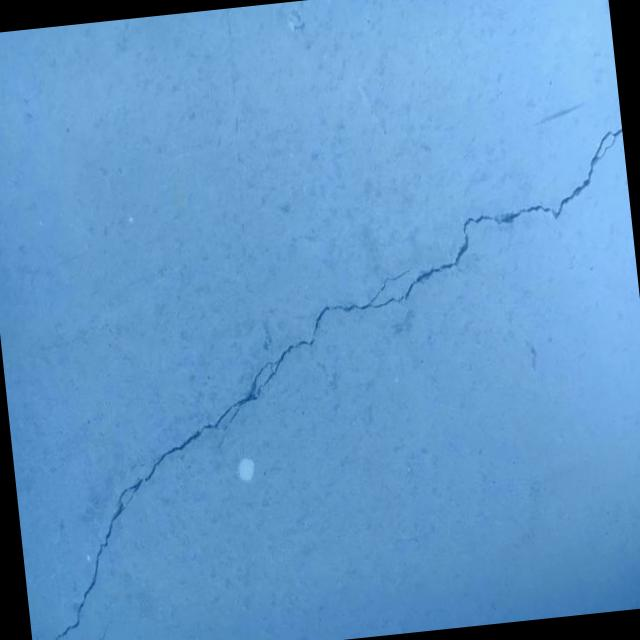crack: (4, 127, 640, 640), (80, 609, 124, 640)
